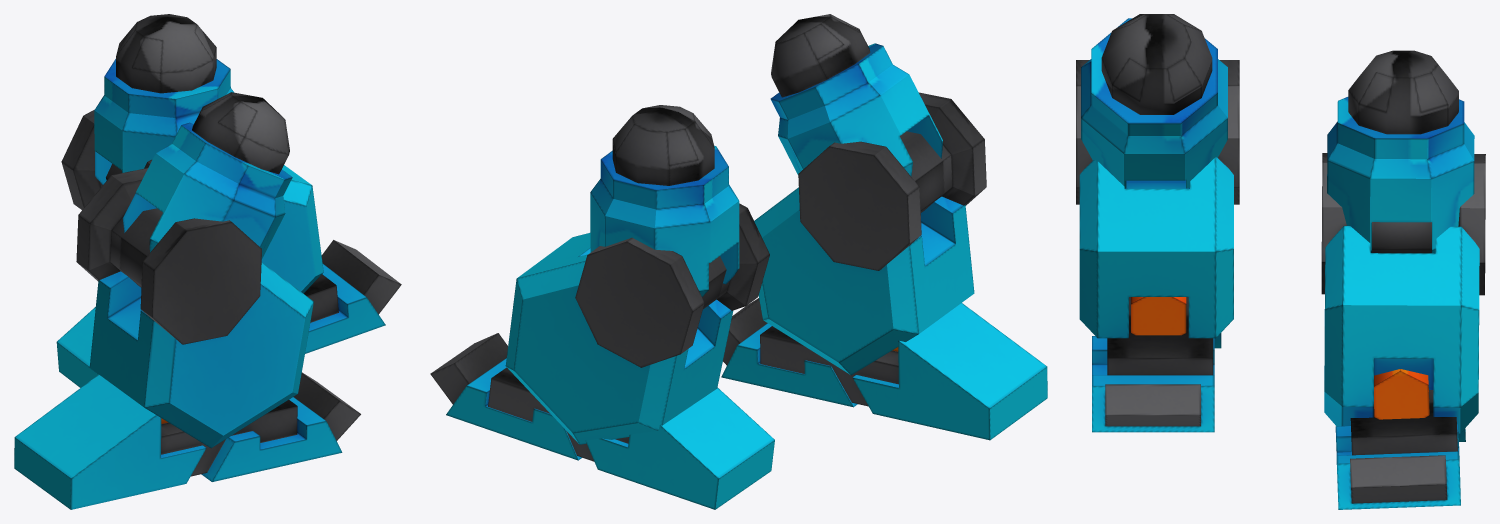
Rendered from Bottom_Idle4.obj.
The picture shows the model from 3 angles, left to right: view 1: azimuth 30°, elevation 25°; view 2: azimuth 150°, elevation 25°; view 3: azimuth 270°, elevation 25°; orthographic projection. The views are drawn at different scales.
Visible parts, largest first — view 1: Object013, Object014, Object012, Object009, Object011, Object010; view 2: Object013, Object010, Object014, Object011, Object009, Object012; view 3: Object010, Object013, Object009, Object012, Object014, Object011.
Part boxes in pixels (x1=…): Object013: x1=76, y1=168, x2=313, y2=448; Object014: x1=14, y1=372, x2=360, y2=509; Object012: x1=122, y1=92, x2=292, y2=259; Object009: x1=94, y1=14, x2=233, y2=184; Object011: x1=56, y1=240, x2=401, y2=387; Object010: x1=61, y1=109, x2=323, y2=293; Object013: x1=754, y1=92, x2=986, y2=375; Object010: x1=505, y1=203, x2=769, y2=444; Object014: x1=721, y1=298, x2=1047, y2=440; Object011: x1=430, y1=333, x2=774, y2=509; Object009: x1=590, y1=105, x2=739, y2=296; Object012: x1=770, y1=14, x2=942, y2=176; Object010: x1=1321, y1=153, x2=1485, y2=433; Object013: x1=1076, y1=60, x2=1239, y2=338; Object009: x1=1327, y1=50, x2=1474, y2=253; Object012: x1=1081, y1=14, x2=1227, y2=188; Object014: x1=1092, y1=297, x2=1221, y2=432; Object011: x1=1335, y1=369, x2=1465, y2=509.
Bounding box in the file's own units: 129 × 102 × 94.65.
